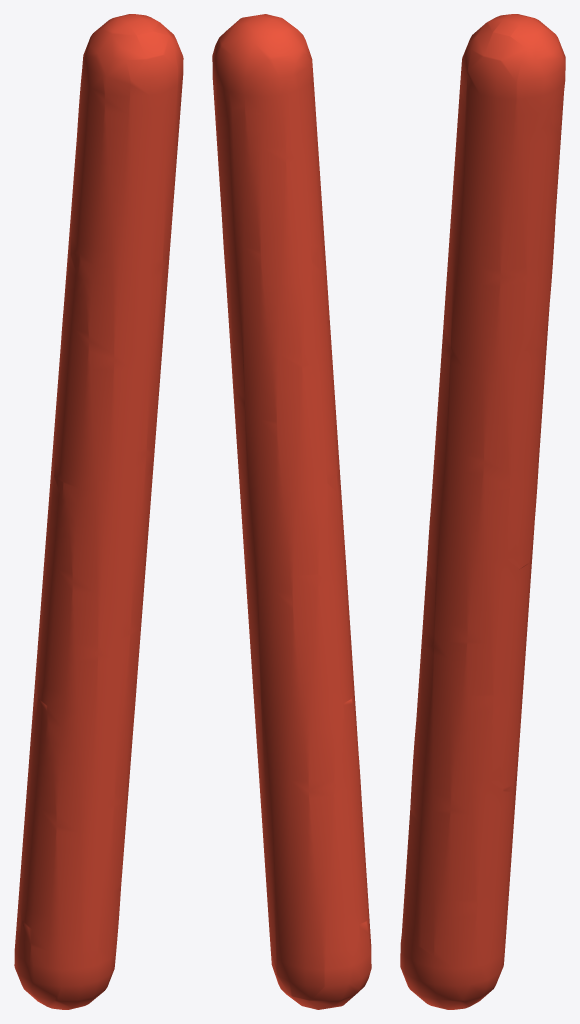
File: glizzy.glb
3 renders of one model, left to right at view 1: azimuth 30°, elevation 25°; view 2: azimuth 150°, elevation 25°; view 3: azimuth 330°, elevation 25°, orthographic. The views are drawn at different scales.
Visible parts, largest first — view 1: Mball.001; view 2: Mball.001; view 3: Mball.001.
Boxes of the visible parts, x1=… form: Mball.001: x1=14, y1=14, x2=183, y2=1009; Mball.001: x1=212, y1=14, x2=371, y2=1009; Mball.001: x1=400, y1=14, x2=565, y2=1009.
Bounding box in the file's own units: 0.1875 × 1.15 × 0.1164.
